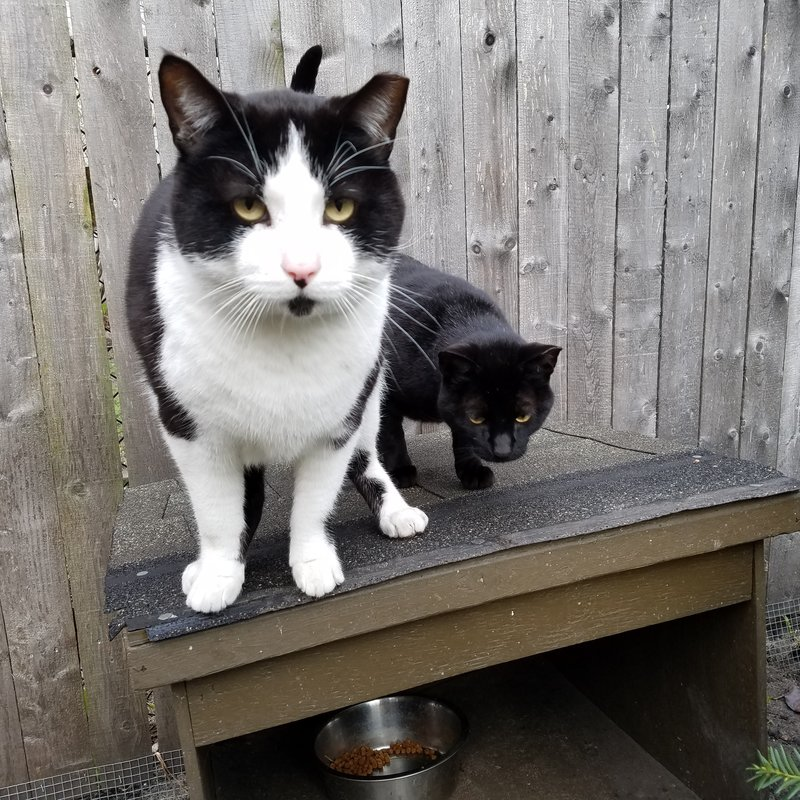cat: (127, 58, 406, 610), (369, 248, 577, 513)
